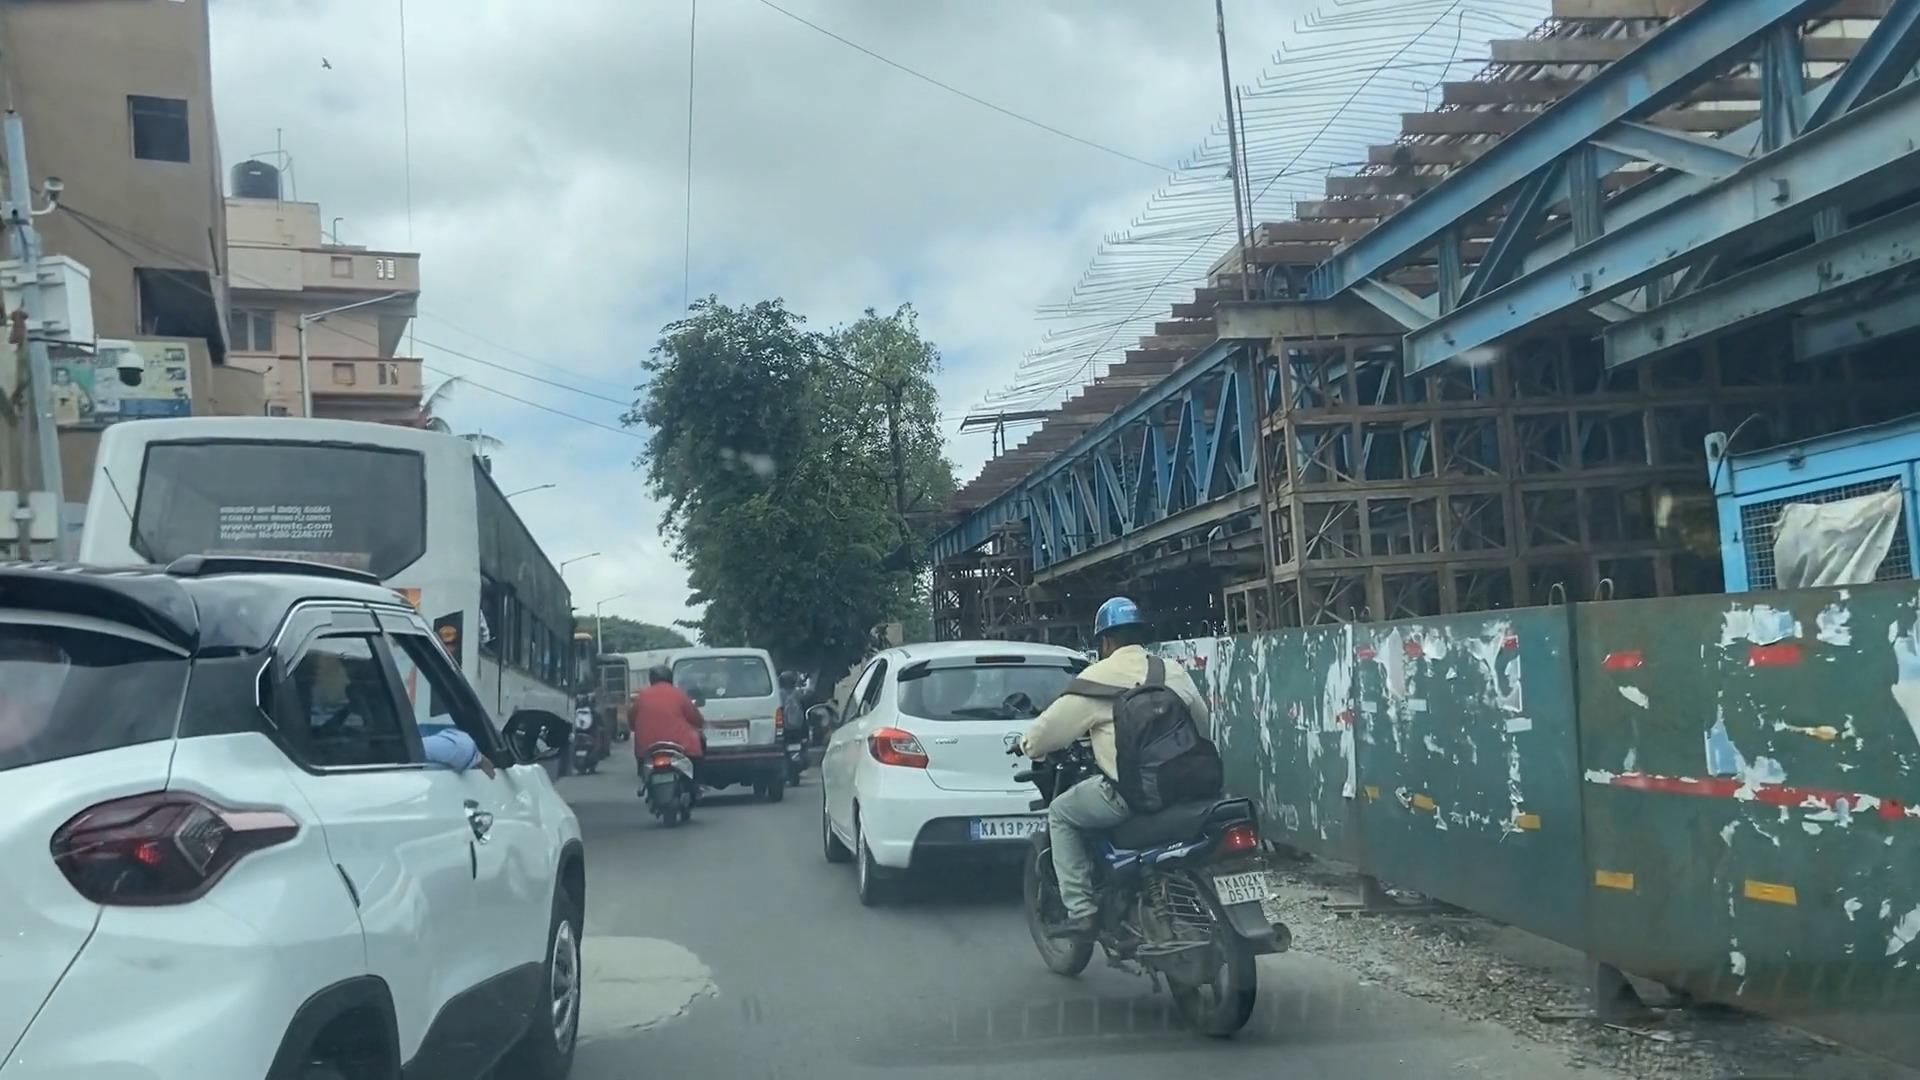LMV: (1048, 626, 1255, 1014), (624, 658, 709, 827)
RoadDamages: (584, 930, 709, 1052)
